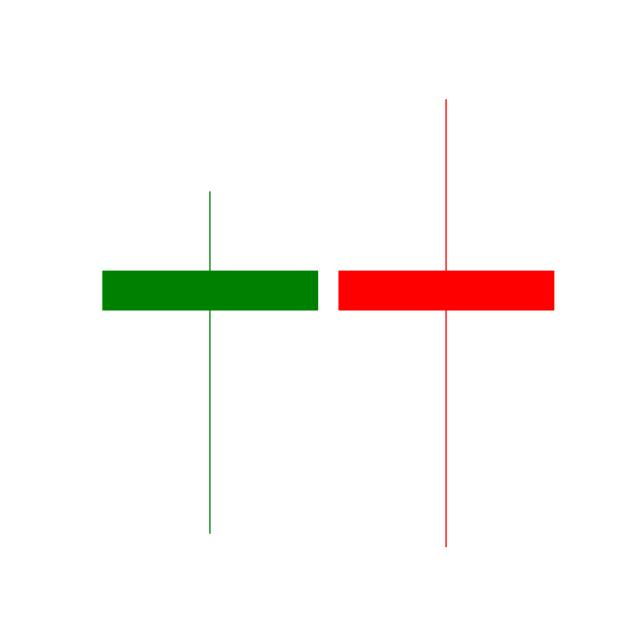Hammer: (98, 186, 320, 552)
High Wave: (337, 100, 554, 552)
